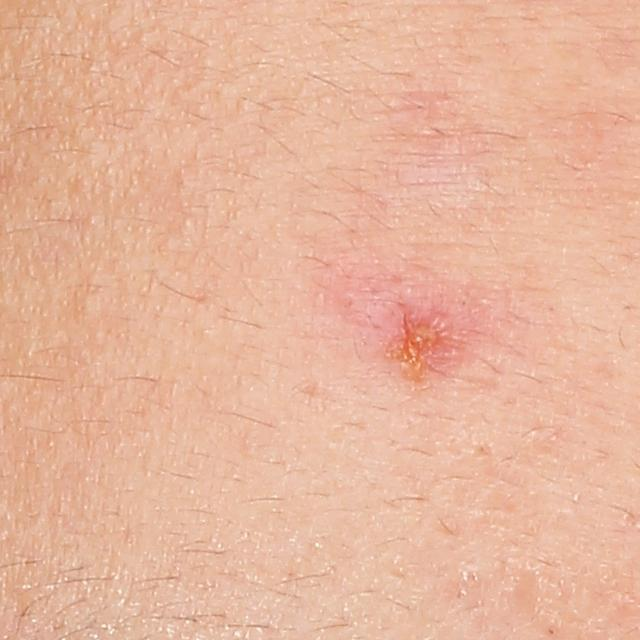comedo: (77, 292, 108, 324)
